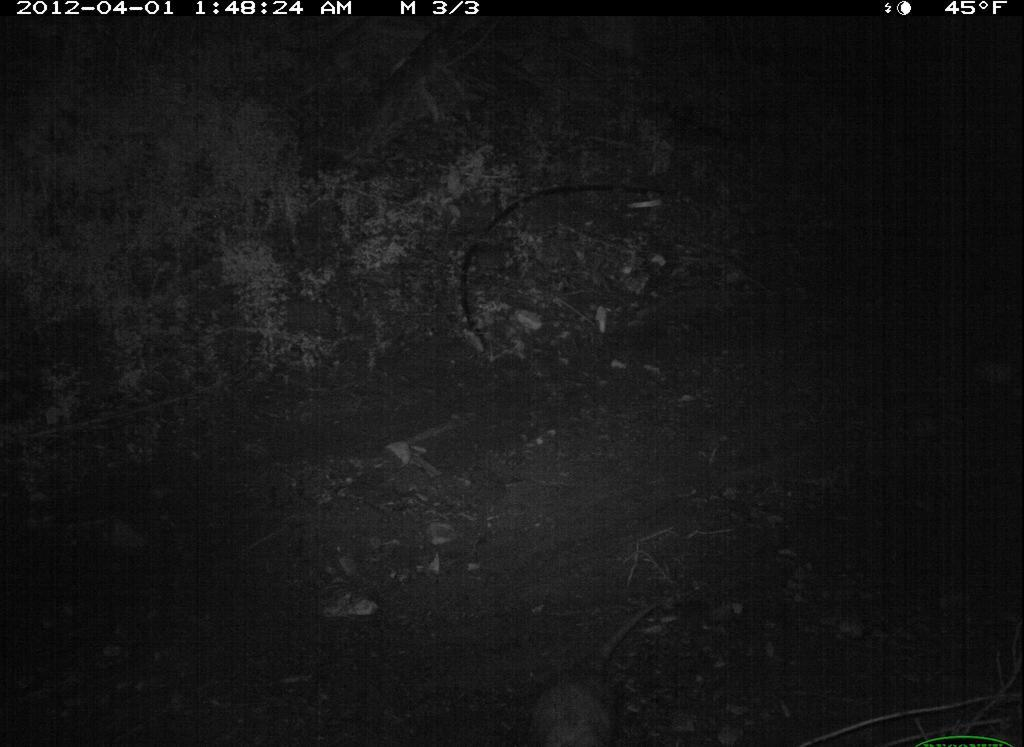opossum: (511, 594, 693, 747)
